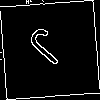J: (24, 24, 76, 74)
